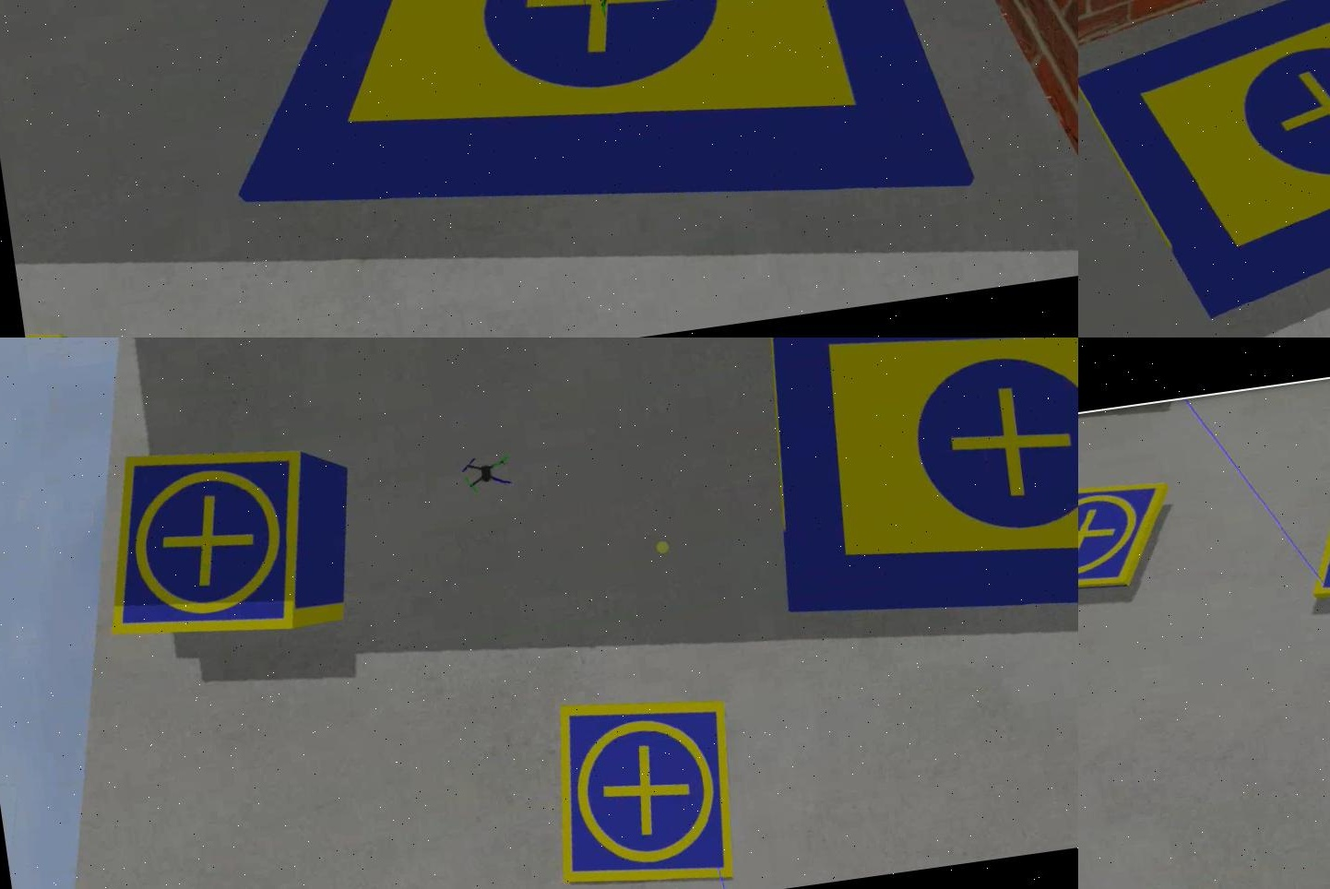large_base: (192, 1, 974, 282), (740, 338, 1076, 670), (1076, 1, 1328, 338)
small_base: (84, 430, 329, 654), (534, 688, 749, 889), (1076, 475, 1175, 606)
